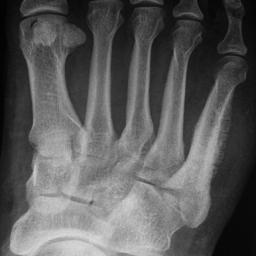cancer: (192, 81, 236, 187)
